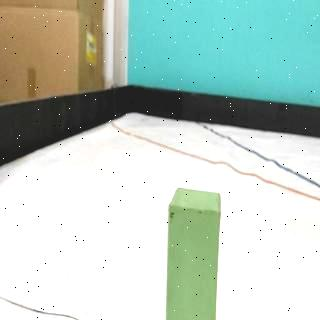greenbox: (167, 185, 223, 320)
